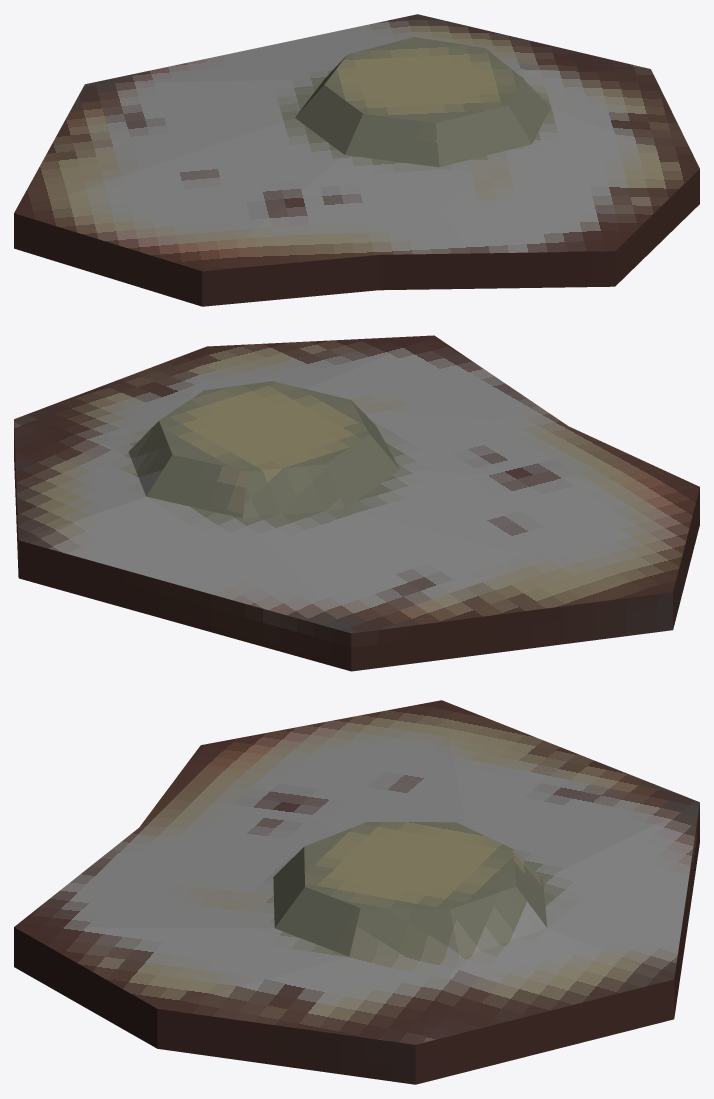
File: medamayaki_koge.gltf
The picture shows the model from 3 angles, top to bottom: view 1: azimuth 30°, elevation 25°; view 2: azimuth 150°, elevation 25°; view 3: azimuth 270°, elevation 25°; orthographic projection. The views are drawn at different scales.
Visible parts, largest first — view 1: Cube; view 2: Cube; view 3: Cube.
Boxes of the visible parts, left/top/right/bottom form: Cube: left=14, top=14, right=699, bottom=306; Cube: left=14, top=335, right=699, bottom=671; Cube: left=14, top=700, right=699, bottom=1084.
Bounding box in the file's own units: 0.3009 × 0.0376 × 0.2531.
Materials: 1 (1 with a texture image).
